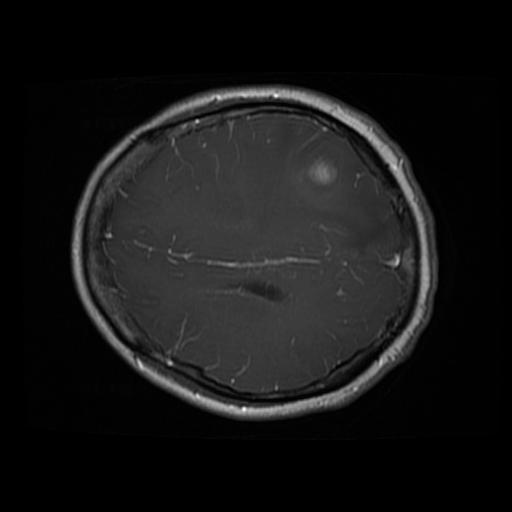glioma: (306, 156, 338, 191)
